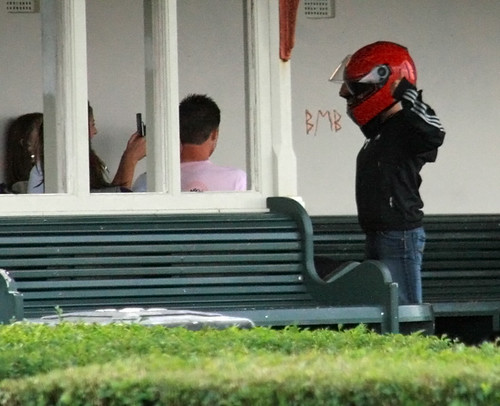helmet: (333, 34, 425, 128)
